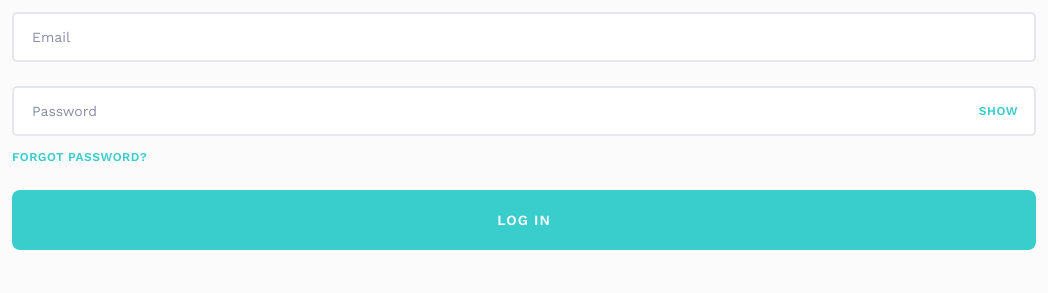
LoginForm › negative › does not submit and shows a min-length error for a short password
Type "jane@lendsqr.com" into the field with placeholder "Email" at coordinates (524, 37), box [30,14,1018,60]
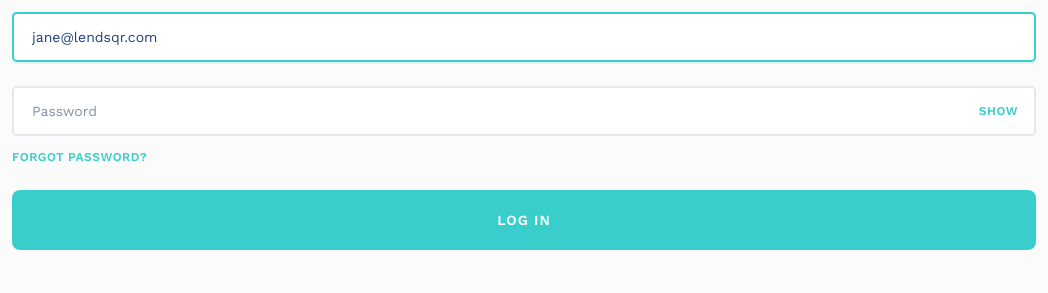
Type "short" into the password field with placeholder "Password" at coordinates (498, 111), box [30,88,967,134]
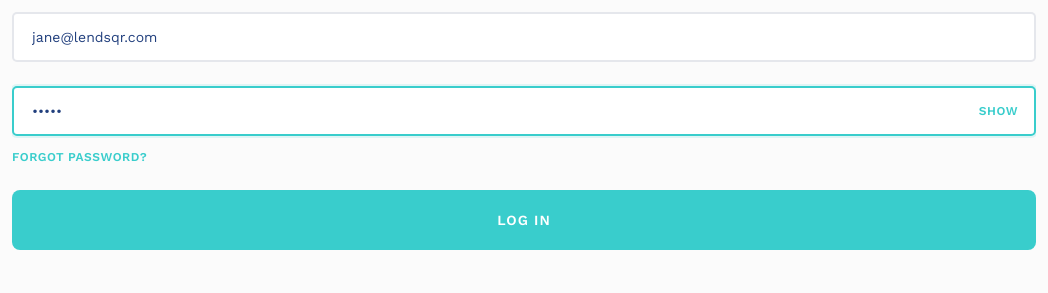
Click the button "Log in" at coordinates (524, 220), box [12,190,1036,250]
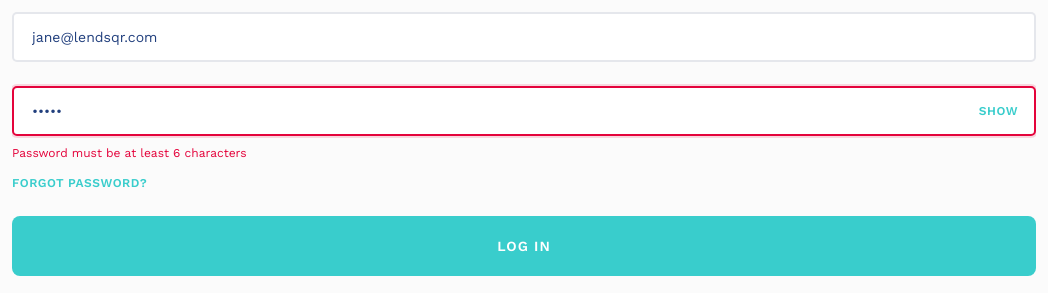
Check: the text "Password must be at least 6 characters" is shown, box [12,146,247,160]
